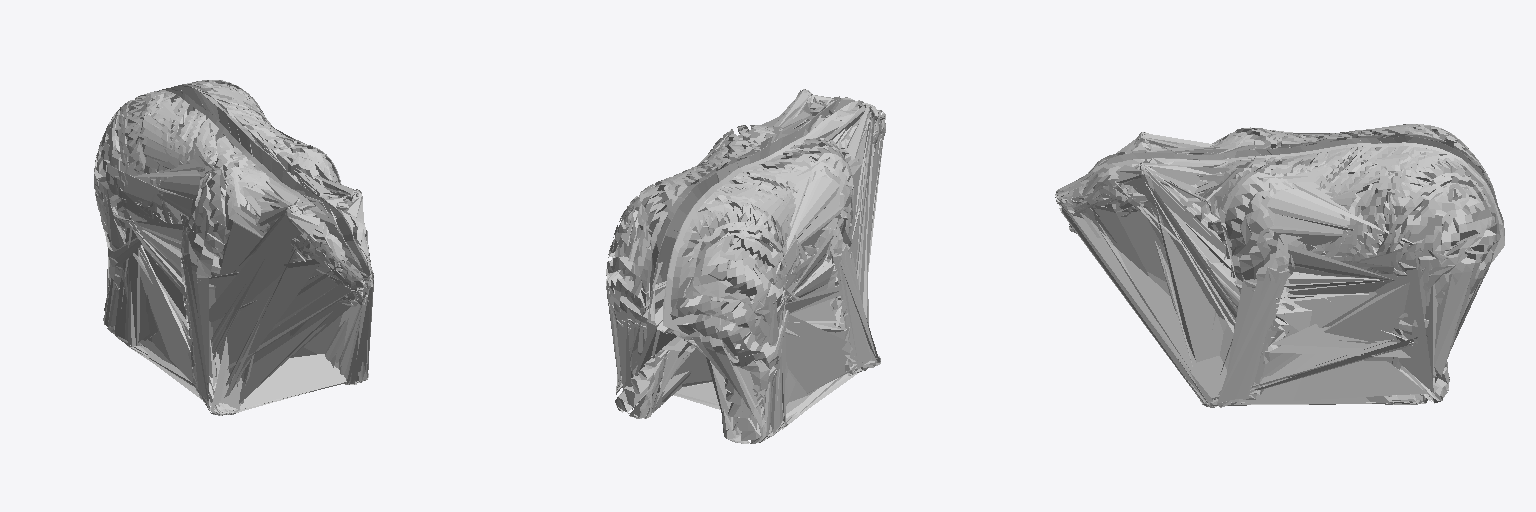
Rendered from polar.obj.
3 renders of one model, left to right at view 1: azimuth 30°, elevation 25°; view 2: azimuth 150°, elevation 25°; view 3: azimuth 270°, elevation 25°, orthographic.
Parts seen in each view (by area): view 1: POLAR_BEAR; view 2: POLAR_BEAR; view 3: POLAR_BEAR.
Part boxes in pixels (bbox=[...]): POLAR_BEAR: bbox=[94, 80, 373, 415]; POLAR_BEAR: bbox=[606, 89, 885, 443]; POLAR_BEAR: bbox=[1055, 124, 1504, 407].
Size of the model in its own units: 1.11 by 1.56 by 2.74.